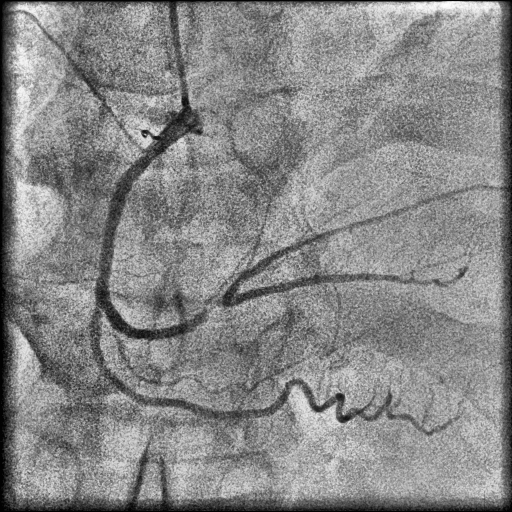pborca: (228, 185, 512, 293)
pda: (233, 249, 472, 306)
rca: (95, 108, 236, 340)
